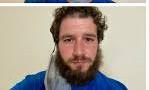Wore Mask Incorrectly: (46, 7, 110, 85)
